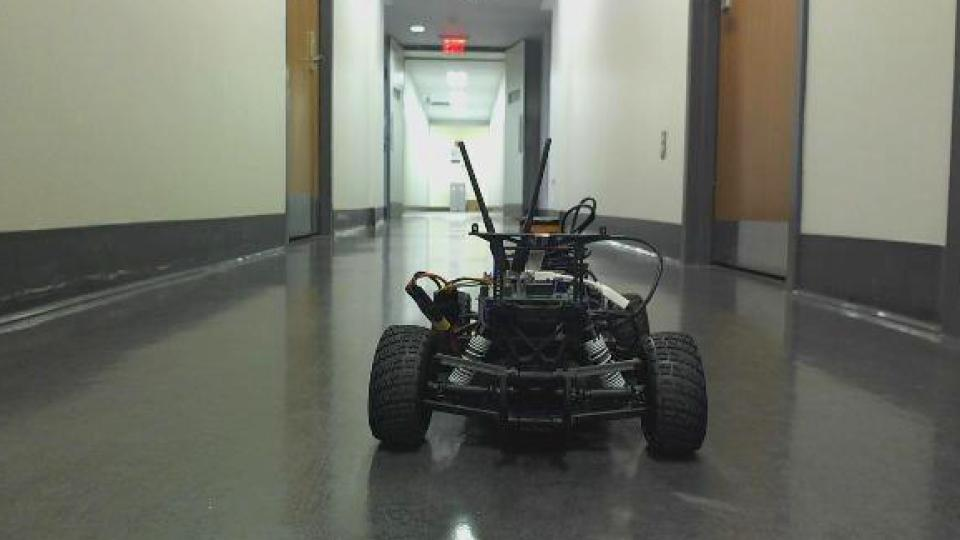car: (365, 135, 712, 460)
